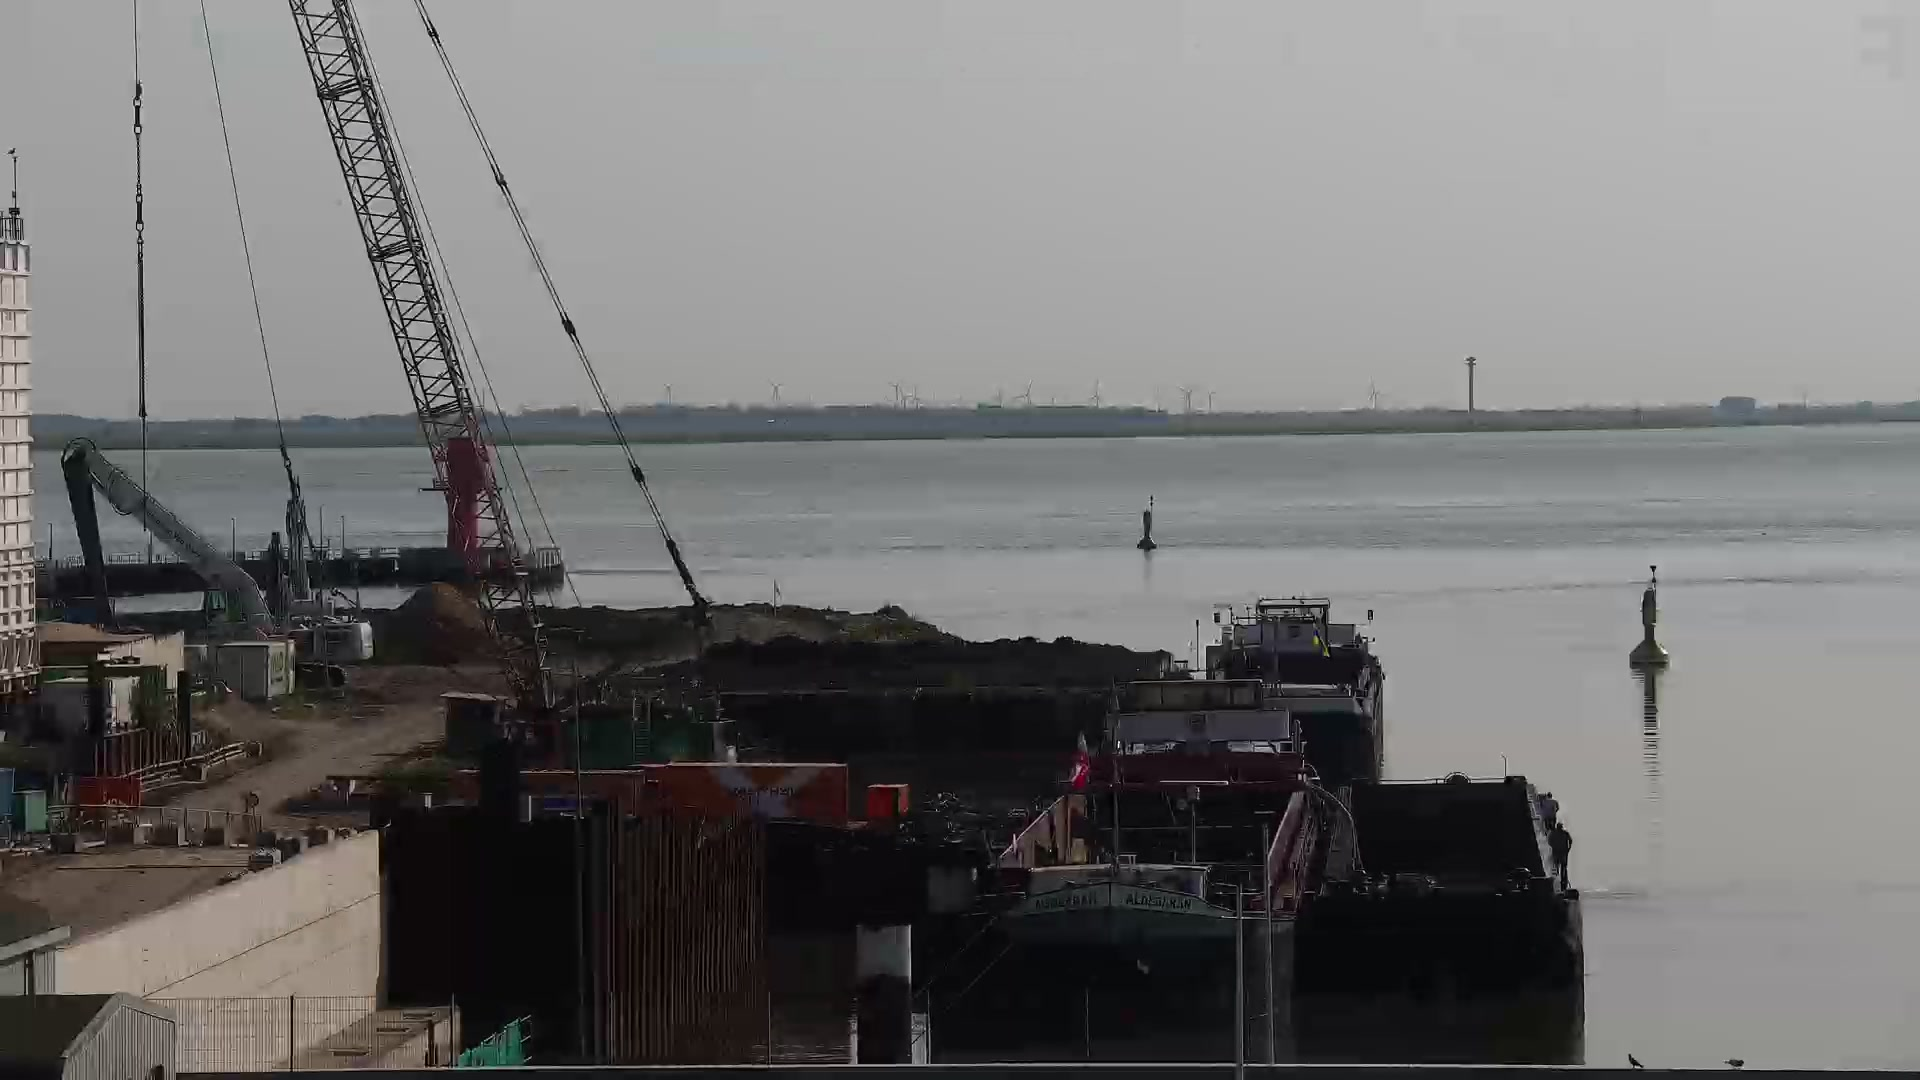human: (1546, 821, 1574, 880), (1541, 787, 1562, 847)
sea: (982, 680, 1327, 1019), (1201, 590, 1387, 774)
